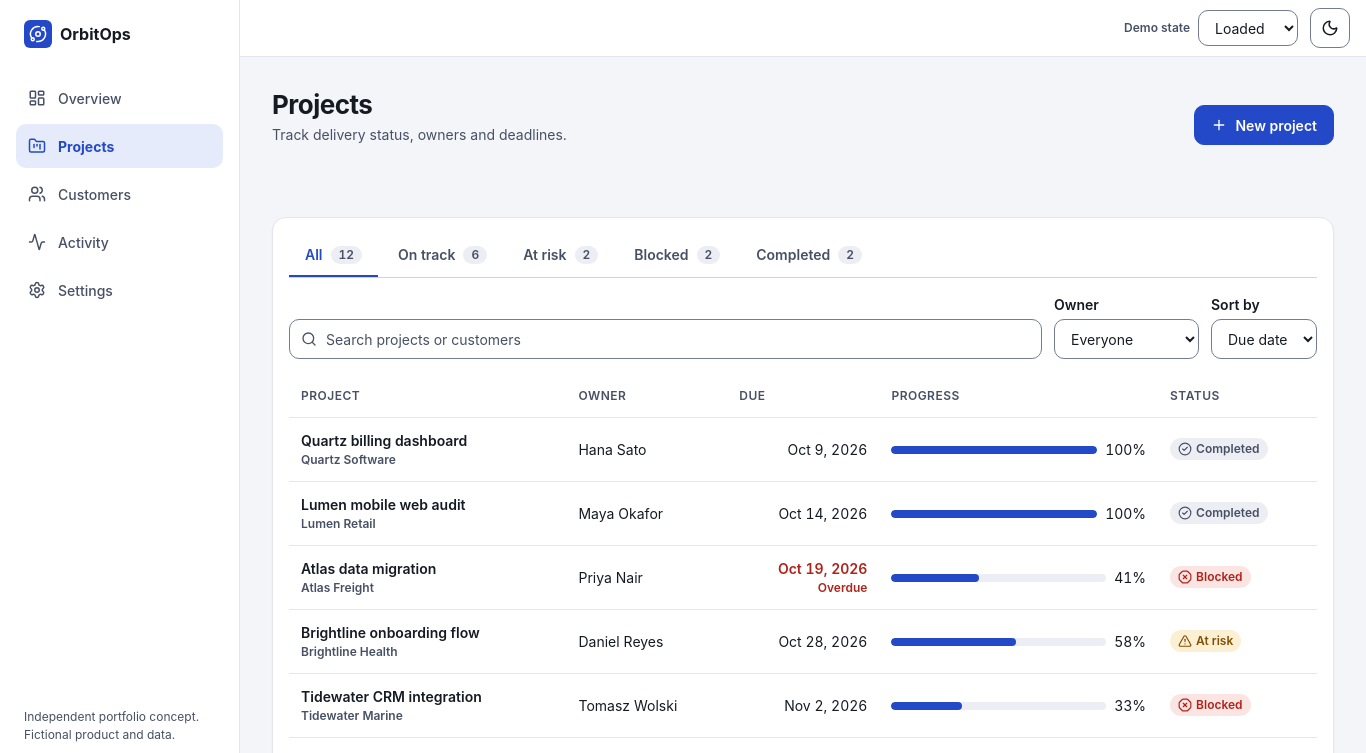
Test case: projects filtering › status tabs and search change the visible rows
Step 1. Click the tab "Blocked 2" → (677, 256), box 618,234 -> 736,278
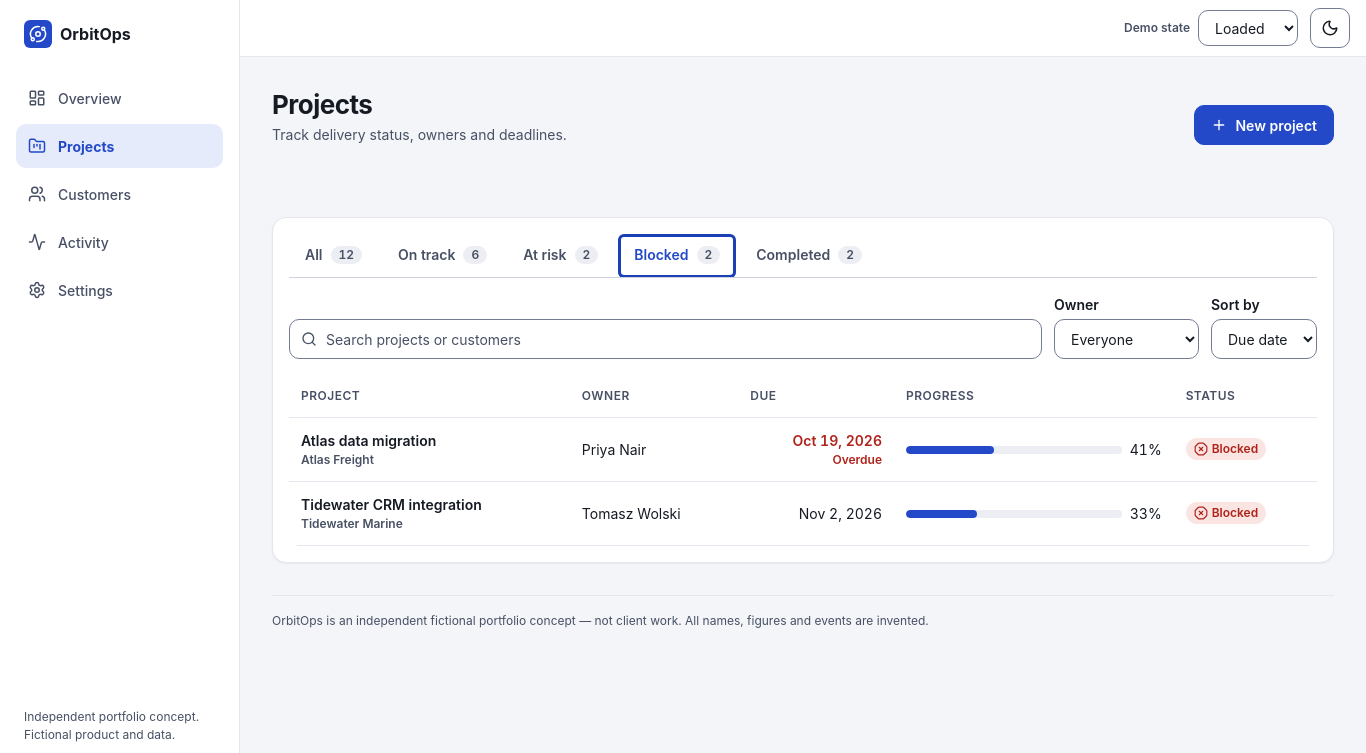
Expected: the number of rows is 3, 289,375 -> 1317,418; 289,418 -> 1317,482; 289,482 -> 1317,546
Step 2. Click the tab "All 12" → (334, 256), box 289,234 -> 378,278
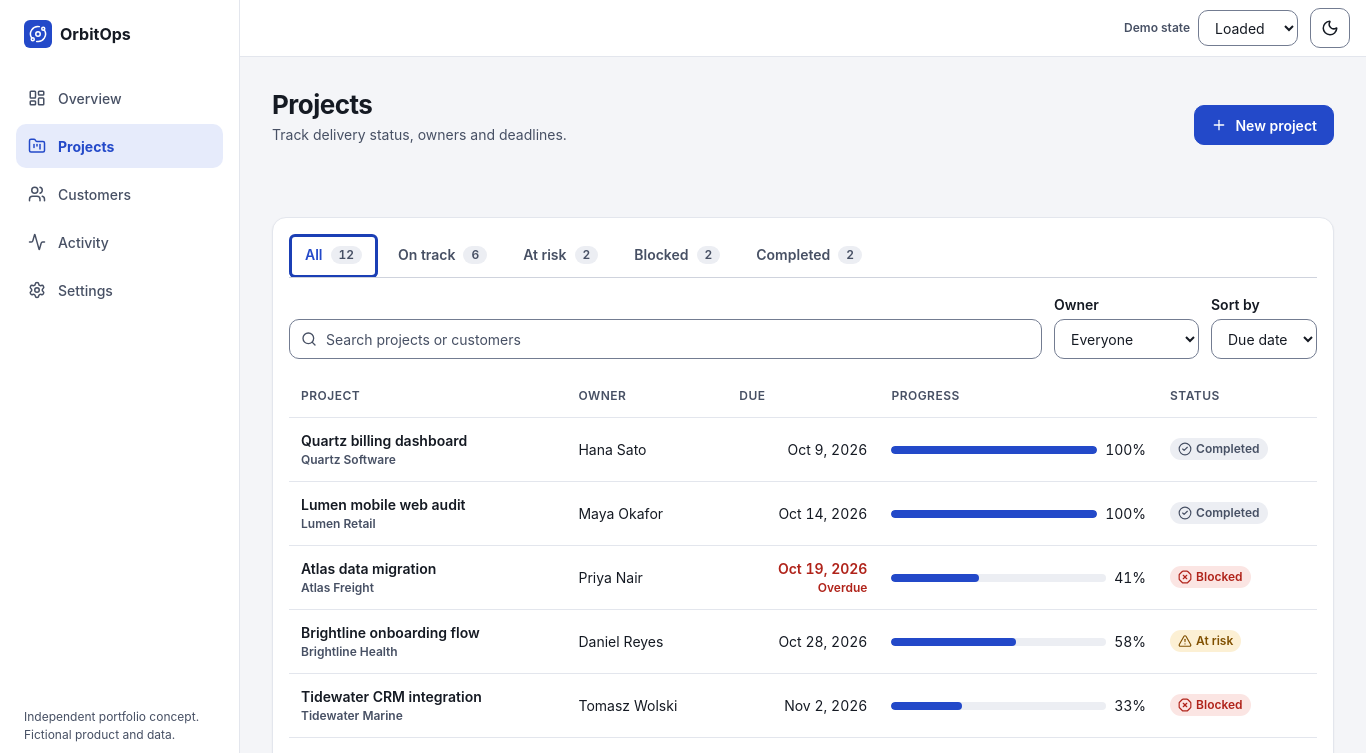
Step 3. Type "zzz-nothing" into the search field labelled "Search projects" → (666, 339), box 289,319 -> 1042,359
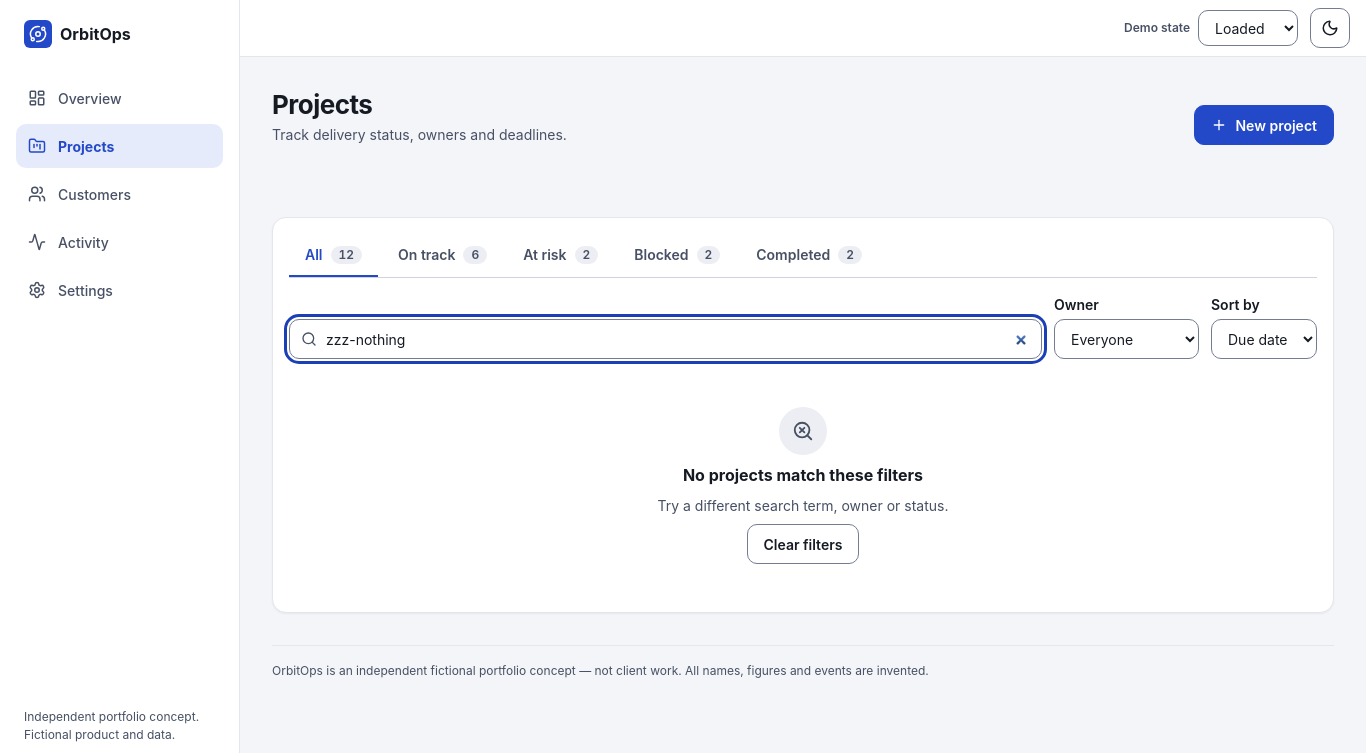
Expected: the heading "No projects match these filters" is shown, 683,463 -> 923,487
Step 4. Click the button "Clear filters" → (803, 544), box 746,524 -> 859,564
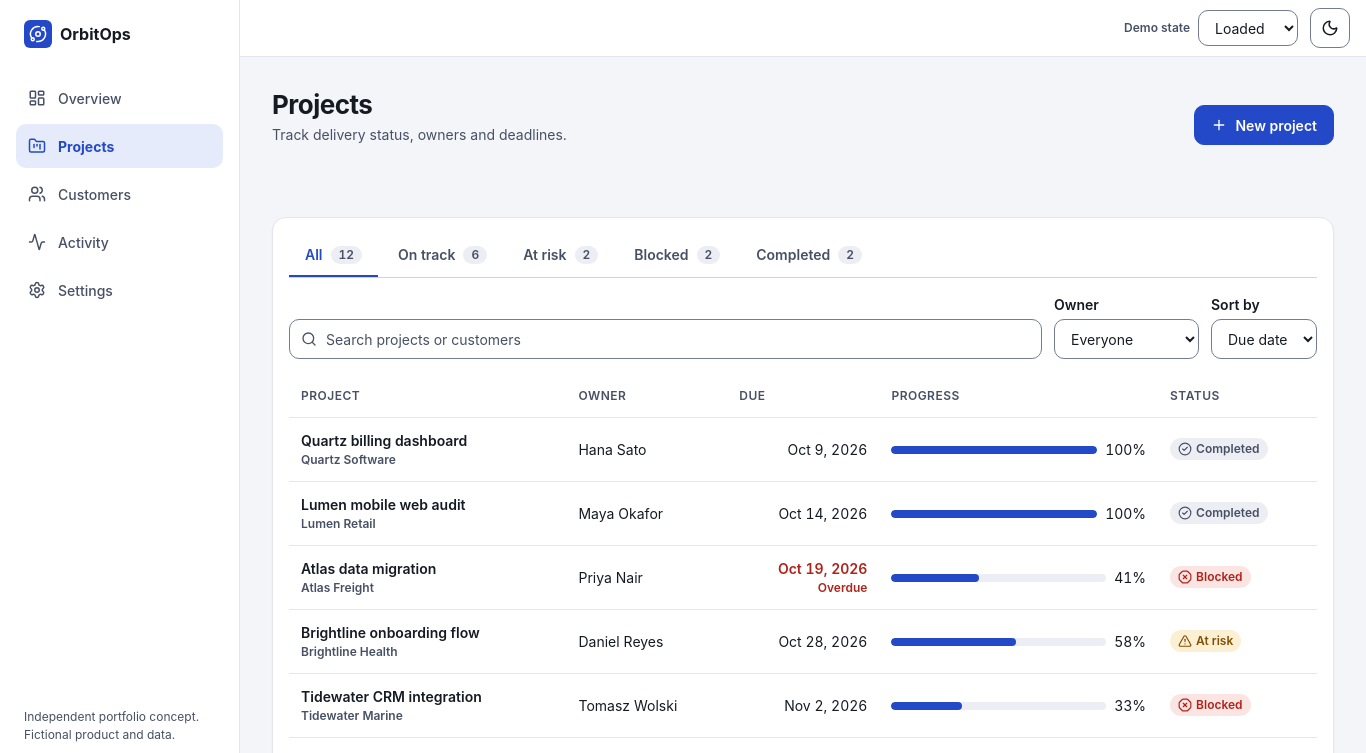
Expected: the number of rows is 13
